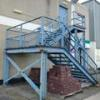stairs: (49, 50, 94, 84), (36, 22, 70, 48)
